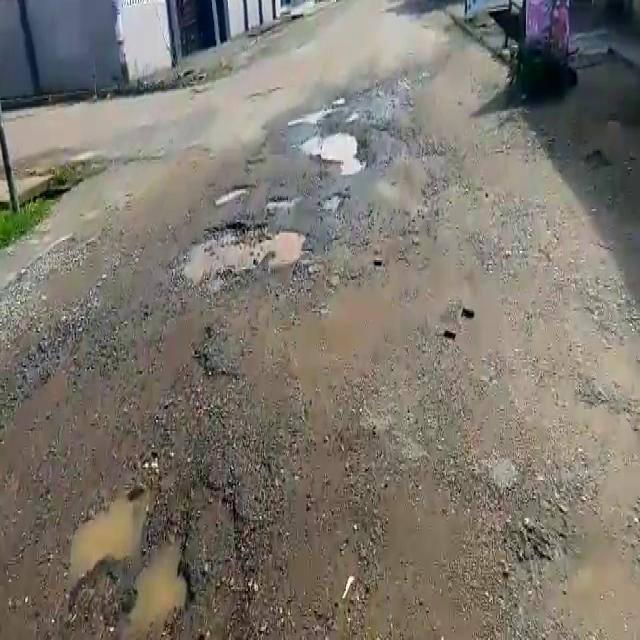Pothole: (68, 486, 191, 640), (170, 215, 298, 291), (296, 125, 364, 161), (288, 106, 334, 126), (218, 184, 251, 209), (266, 196, 300, 212)
